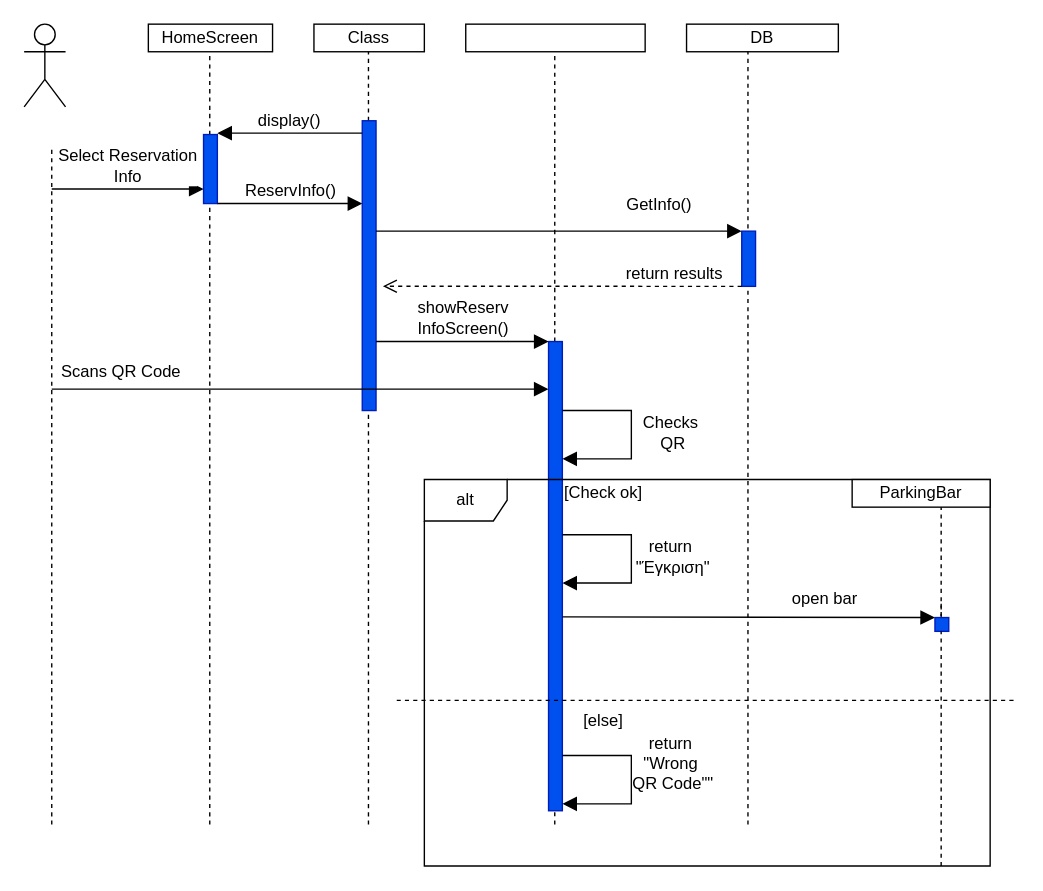
Image size: 1043x891. Some labels were removed from this diagram. The centre of each missing label's shape, as x and y in pixels:
Actor: the point at 44,65
ReservationInfoScreen: the point at 554,37
